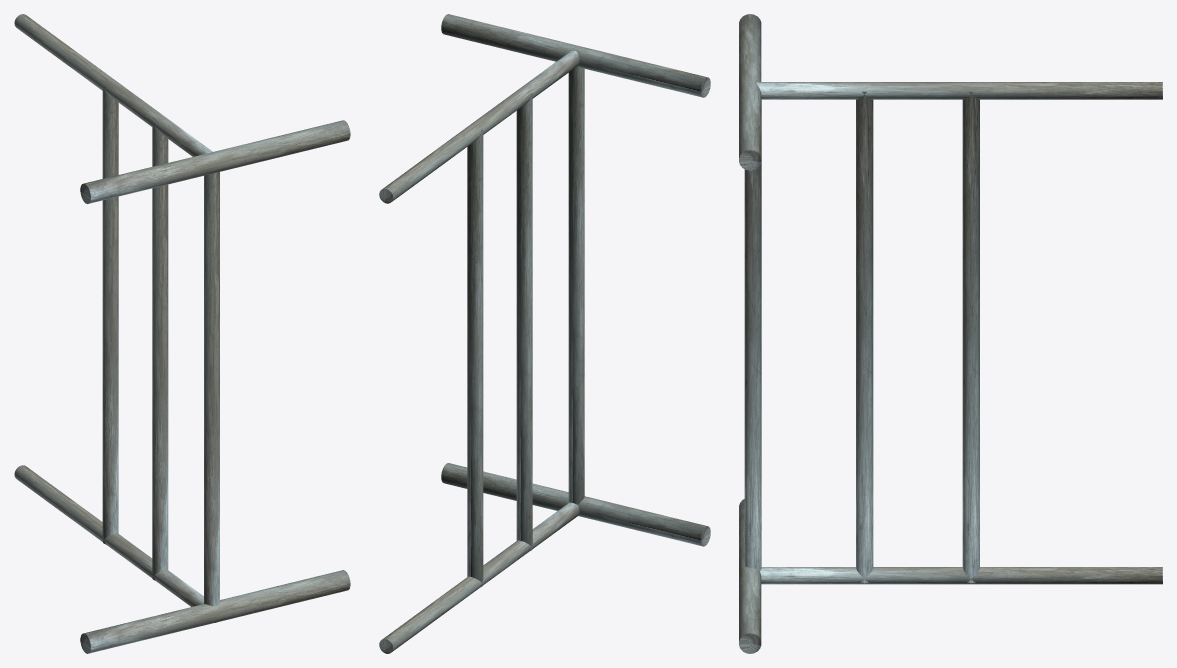
Rendered from Obstacle.fbx.
3 renders of one model, left to right at view 1: azimuth 30°, elevation 25°; view 2: azimuth 150°, elevation 25°; view 3: azimuth 270°, elevation 25°, orthographic. The views are drawn at different scales.
Parts seen in each view (by area): view 1: Cylinder003, Cylinder004, Cylinder005, Cylinder007, Cylinder006, Cylinder001, Cylinder002; view 2: Cylinder003, Cylinder004, Cylinder005, Cylinder007, Cylinder006, Cylinder001, Cylinder002; view 3: Cylinder003, Cylinder004, Cylinder005, Cylinder001, Cylinder002, Cylinder007, Cylinder006.
Boxes of the visible parts, box(x1,y1,x2,y2) form: Cylinder003: box(102, 85, 118, 544); Cylinder004: box(152, 121, 168, 580); Cylinder005: box(204, 172, 219, 606); Cylinder007: box(80, 120, 350, 203); Cylinder006: box(80, 570, 350, 653); Cylinder001: box(14, 14, 212, 156); Cylinder002: box(14, 465, 217, 622); Cylinder003: box(467, 129, 483, 587); Cylinder004: box(516, 93, 532, 551); Cylinder005: box(568, 66, 584, 504); Cylinder007: box(441, 14, 710, 97); Cylinder006: box(441, 463, 710, 546); Cylinder001: box(379, 50, 579, 203); Cylinder002: box(379, 502, 579, 653); Cylinder003: box(962, 91, 979, 583); Cylinder004: box(856, 91, 873, 583); Cylinder005: box(744, 100, 761, 571); Cylinder001: box(756, 82, 1162, 99); Cylinder002: box(760, 567, 1162, 584); Cylinder007: box(739, 14, 761, 170); Cylinder006: box(739, 499, 761, 653).
Size of the model in its own units: 50.31 by 86.82 by 66.21.
1 material, 1 textured.
